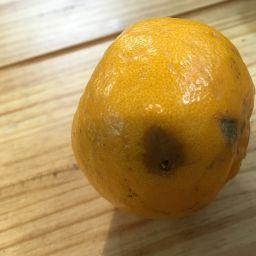Unripe: (71, 18, 254, 219)
